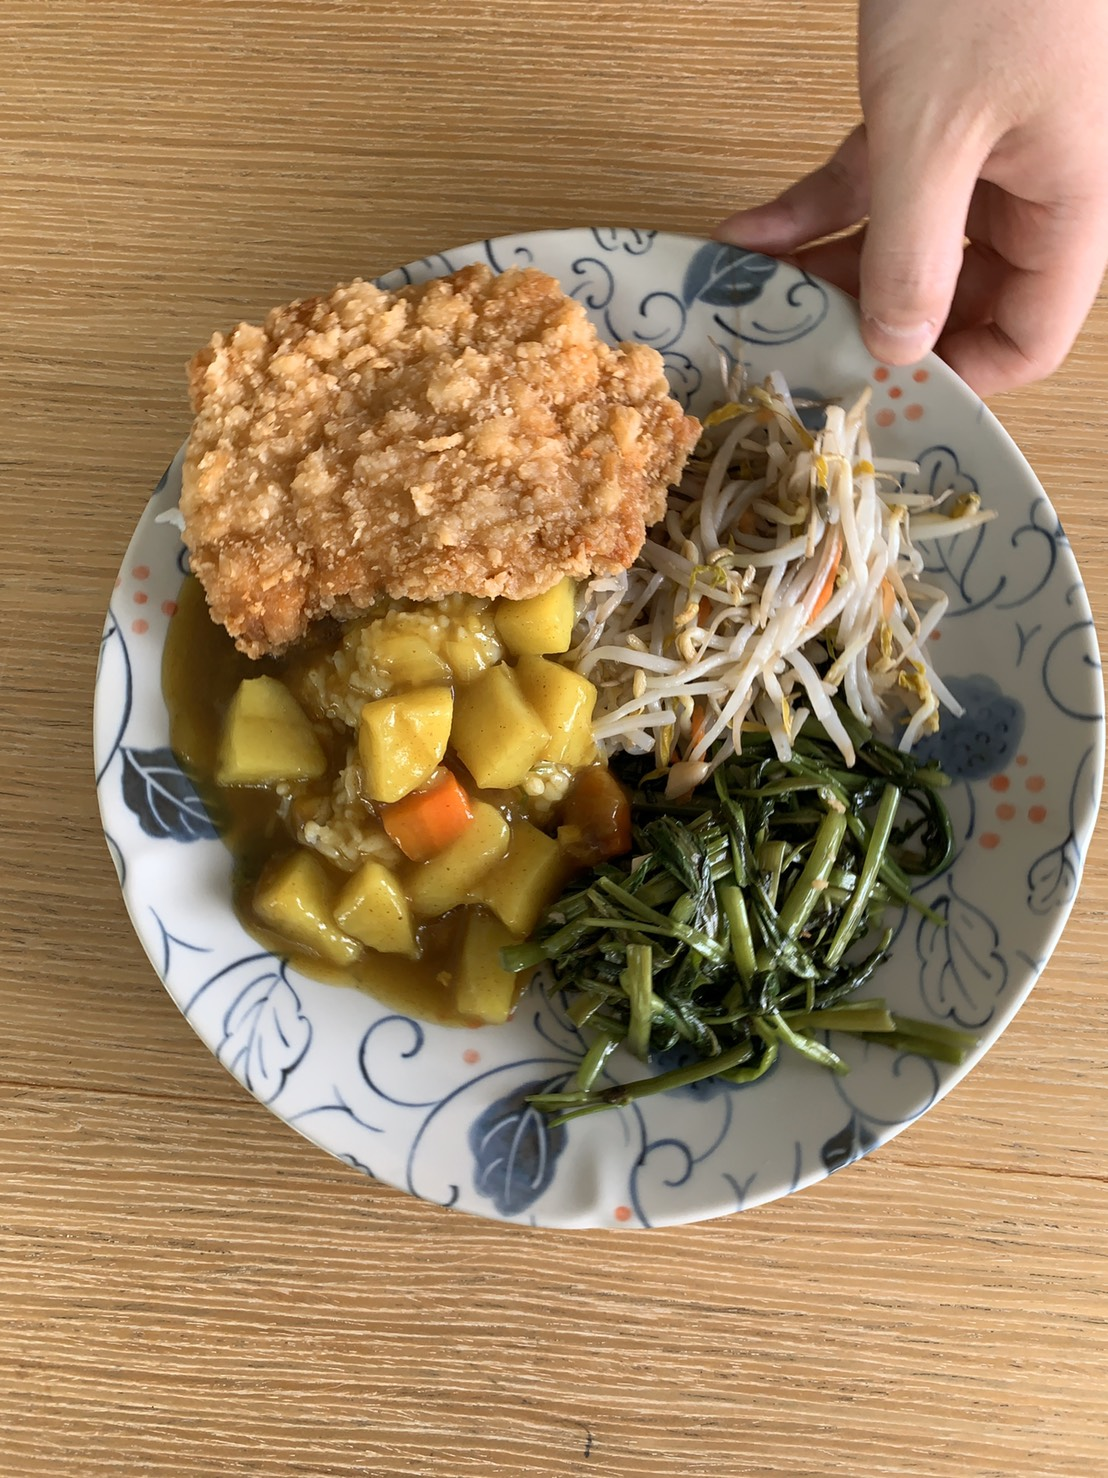curry: (223, 647, 583, 947)
fried_chicken: (182, 263, 687, 630)
mung_bean_sprouts: (644, 445, 899, 732)
water_spinach: (581, 793, 894, 1094)
